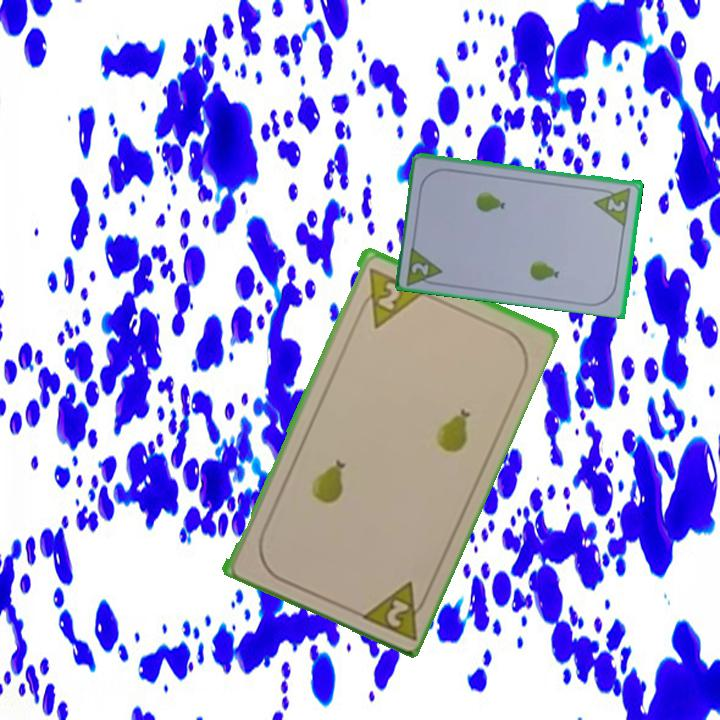2p: (354, 576, 433, 642), (403, 242, 446, 288), (373, 277, 403, 313), (604, 195, 628, 214)
